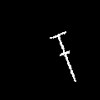double_crochet: (50, 32, 75, 81)
